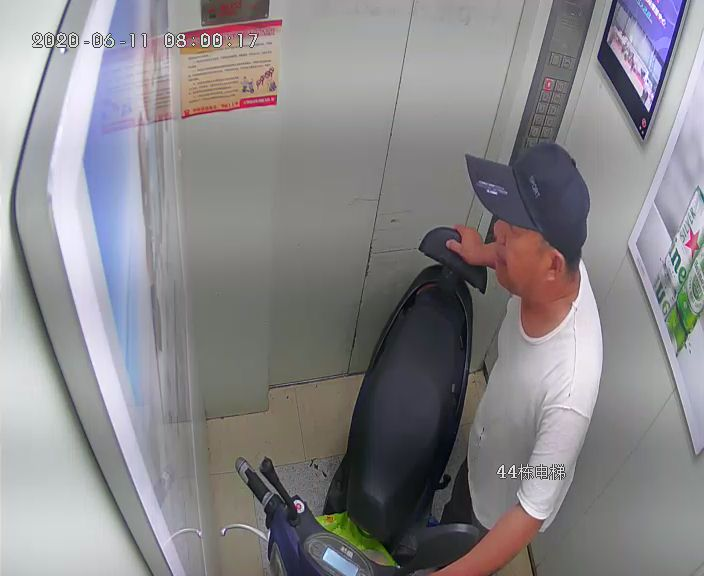Electric-bicycle: (272, 231, 476, 576)
